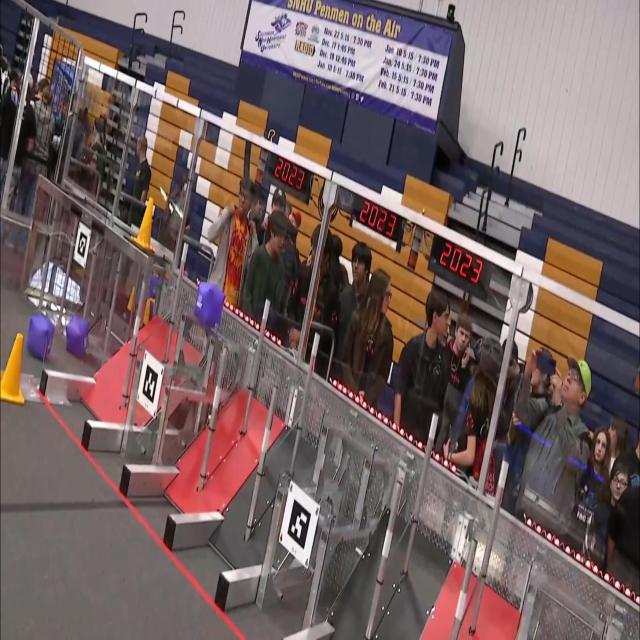frc_cone: (0, 330, 25, 404), (129, 194, 155, 251), (126, 286, 136, 315), (142, 301, 151, 324)
frc_cube: (194, 280, 226, 328), (26, 310, 56, 360), (66, 314, 90, 360), (150, 275, 160, 305)
